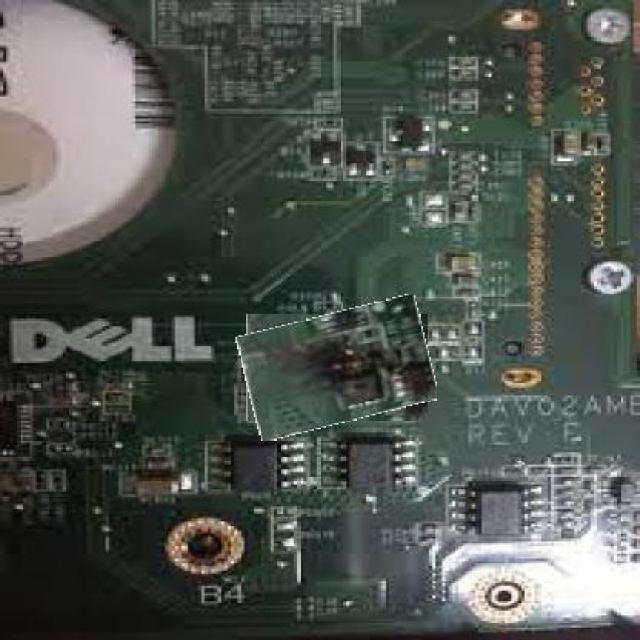Burn: (240, 304, 434, 432)
